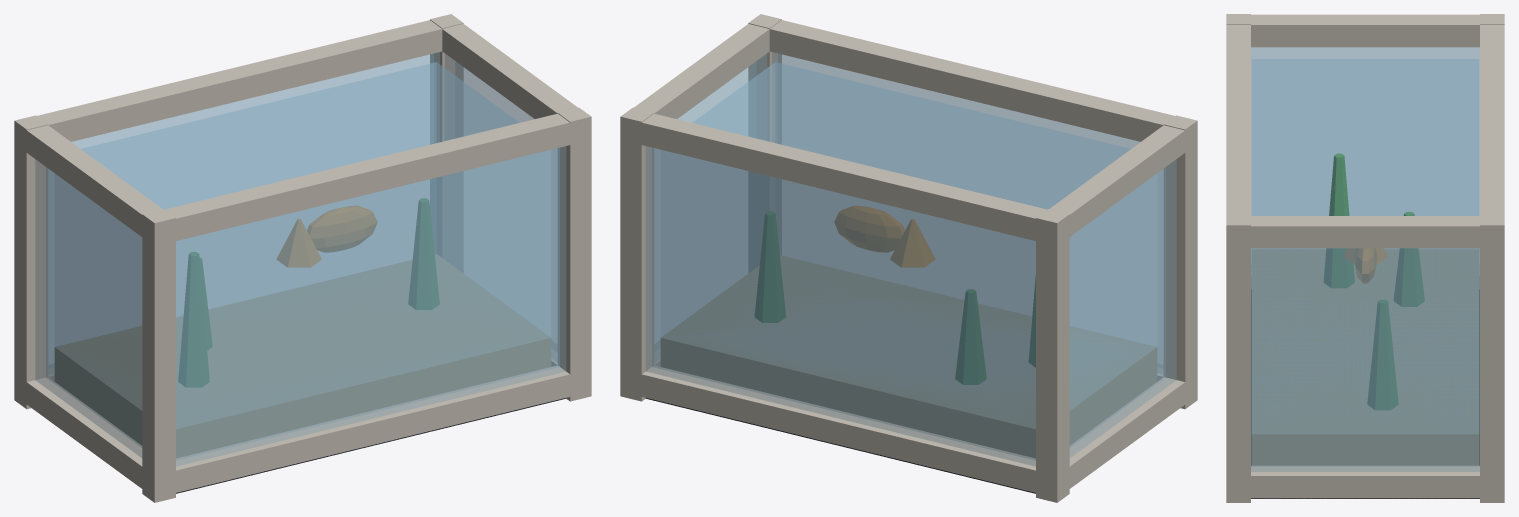
Rendered from aquarium.glb.
The picture shows the model from 3 angles, left to right: view 1: azimuth 30°, elevation 25°; view 2: azimuth 150°, elevation 25°; view 3: azimuth 270°, elevation 25°; orthographic projection.
Visible parts, largest first — view 1: aquarium; view 2: aquarium; view 3: aquarium.
Part boxes in pixels (x1,y1,x2,y2): aquarium: [14, 14, 591, 502]; aquarium: [620, 14, 1197, 502]; aquarium: [1226, 14, 1504, 502].
Size of the model in its own units: 0.572 by 0.35 by 0.318.
